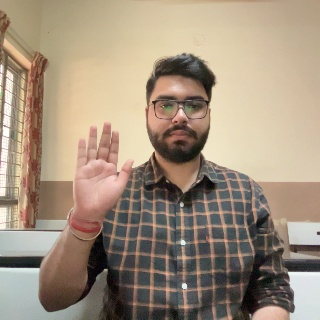Face: (145, 52, 213, 161)
Hello: (71, 123, 133, 222)
